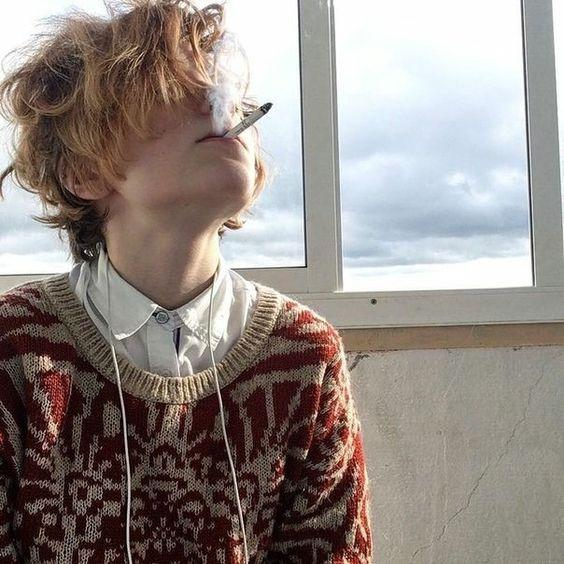cigarette: (223, 103, 273, 139)
